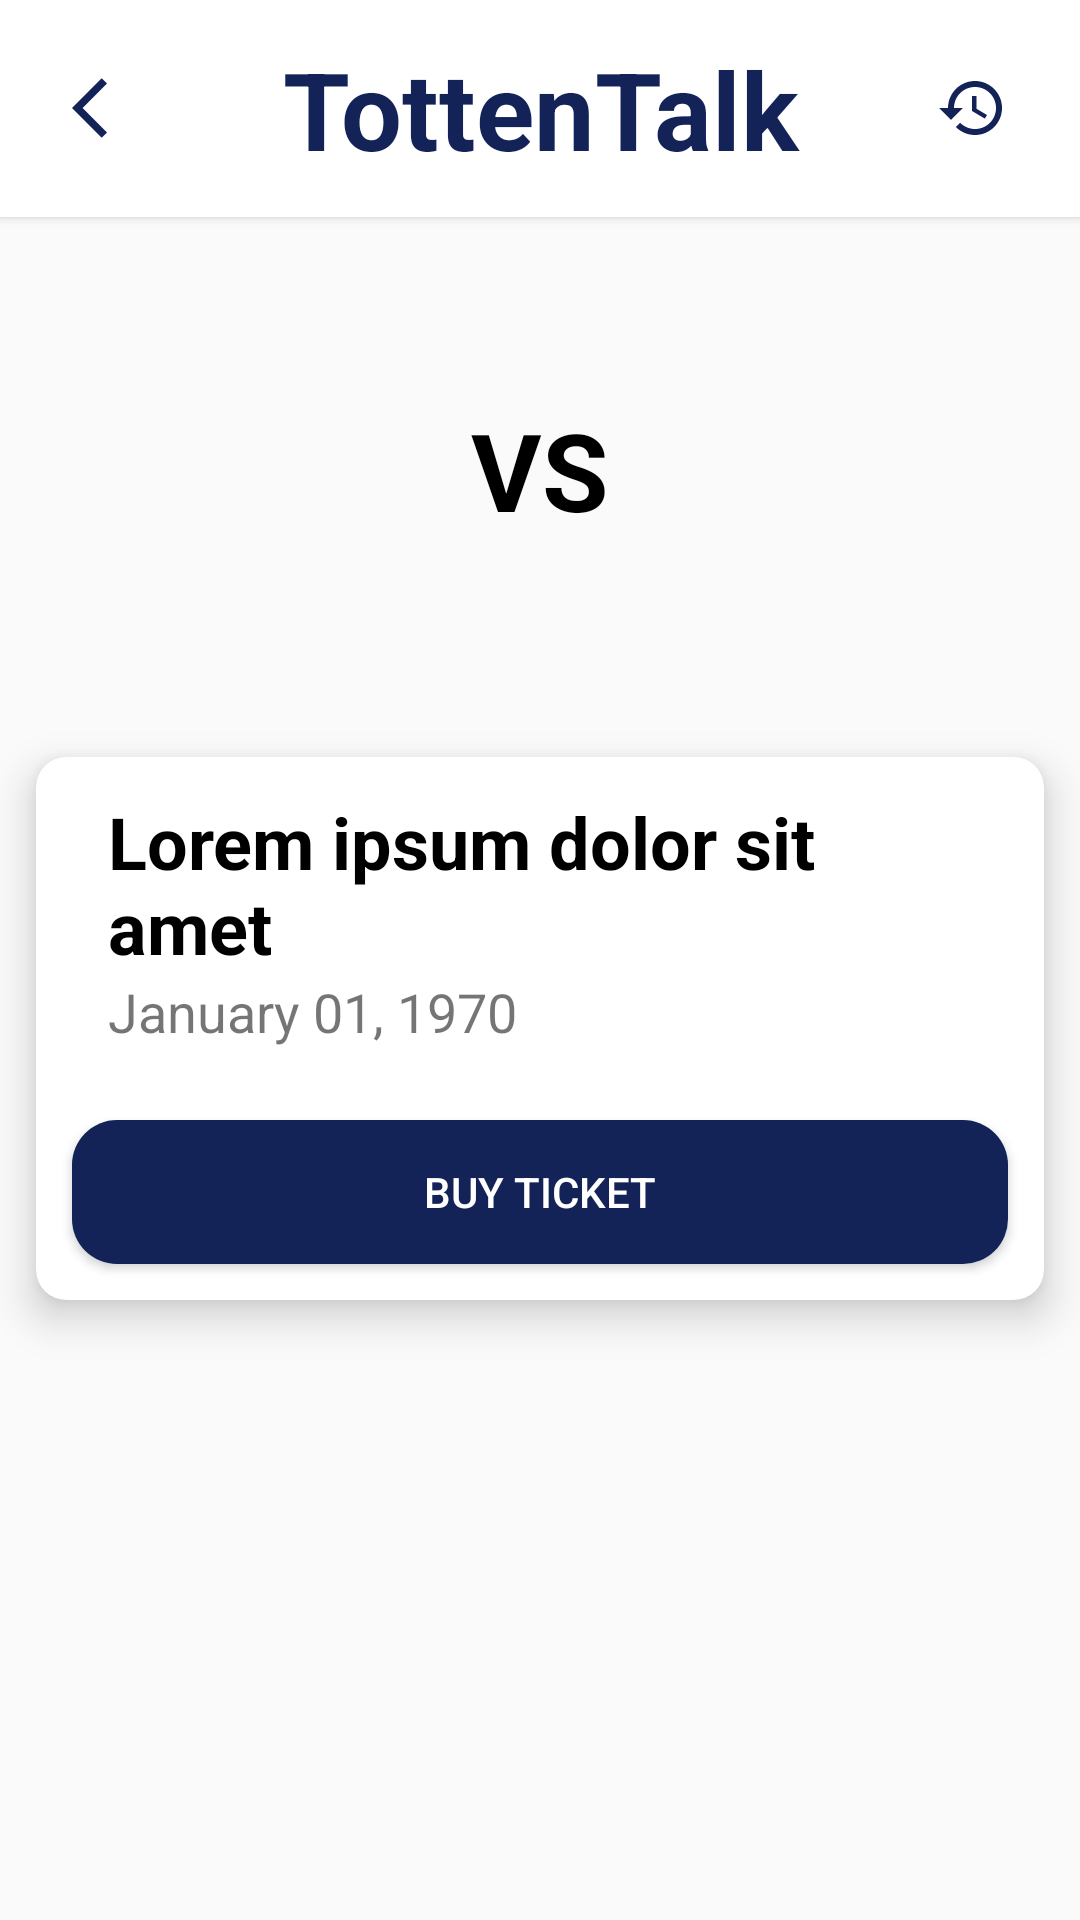

Screen size 1080px×1920px. Icon name, then its center in pixels as (x,y):
Back Button: (89,108)
History Button: (970,108)
